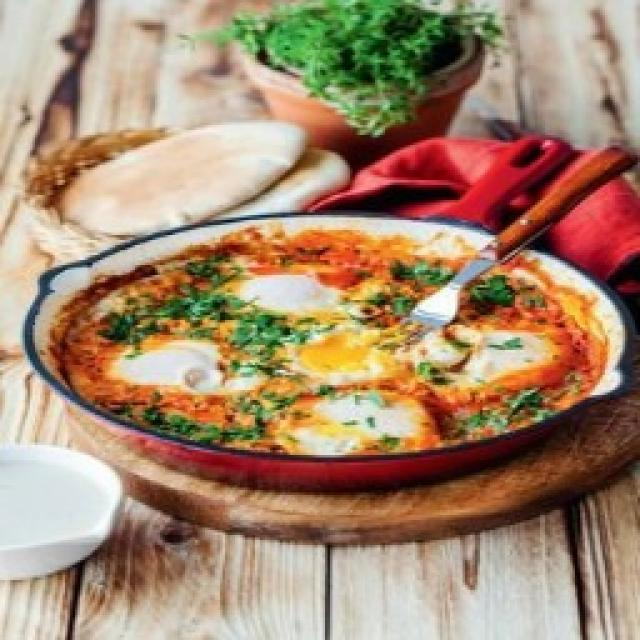Chakchouka: (50, 226, 606, 454)
